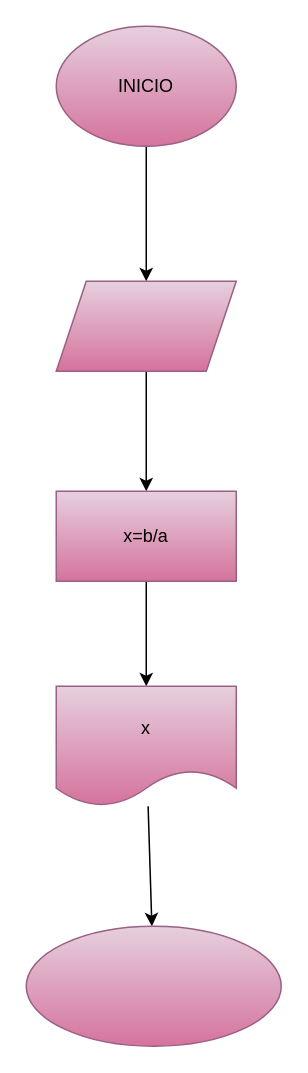
This 308x1073 diagram has some shape labels left out. Each missing label, with the centre of its shape:
"a,b" belongs at point 145,325.
"FIN" belongs at point 153,985.
